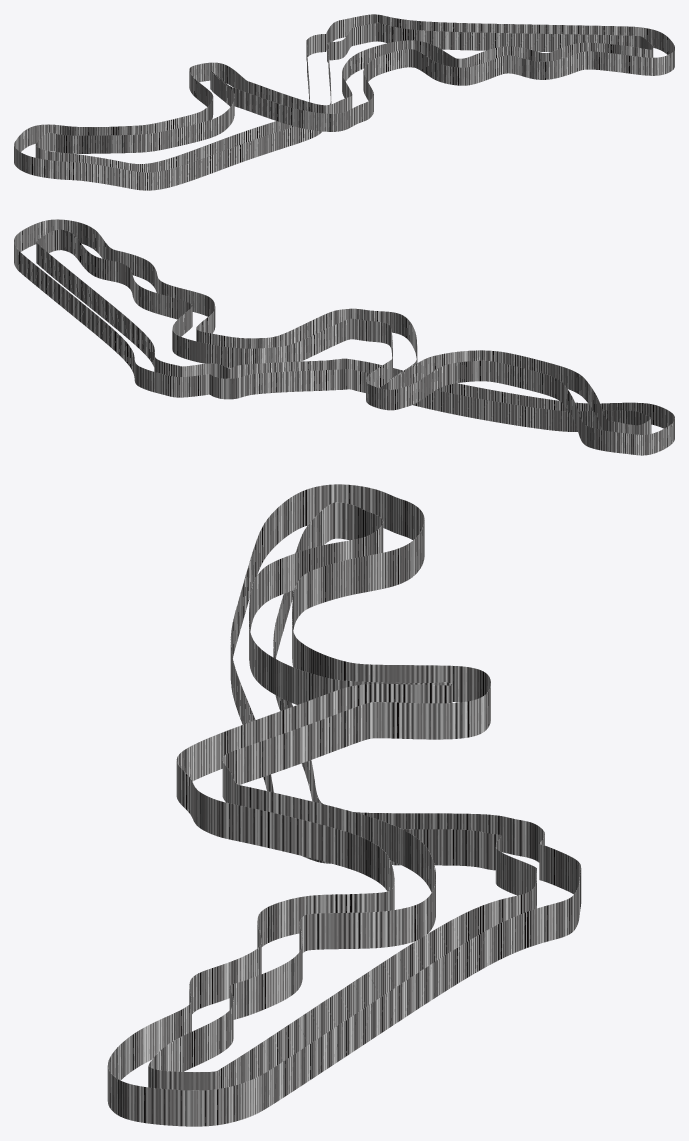
Rendered from circ03_wall.FBX.
3 views of the same model, one above another, from view 1: azimuth 30°, elevation 25°; view 2: azimuth 150°, elevation 25°; view 3: azimuth 270°, elevation 25° (orthographic). The views are drawn at different scales.
Visible parts, largest first — view 1: new_wall; view 2: new_wall; view 3: new_wall.
Boxes of the visible parts, bbox=[...] form: new_wall: bbox=[14, 14, 674, 190]; new_wall: bbox=[14, 219, 674, 455]; new_wall: bbox=[107, 484, 581, 1126].
Size of the model in its own units: 76140 by 6515 by 25605.
1 material, 1 textured.
